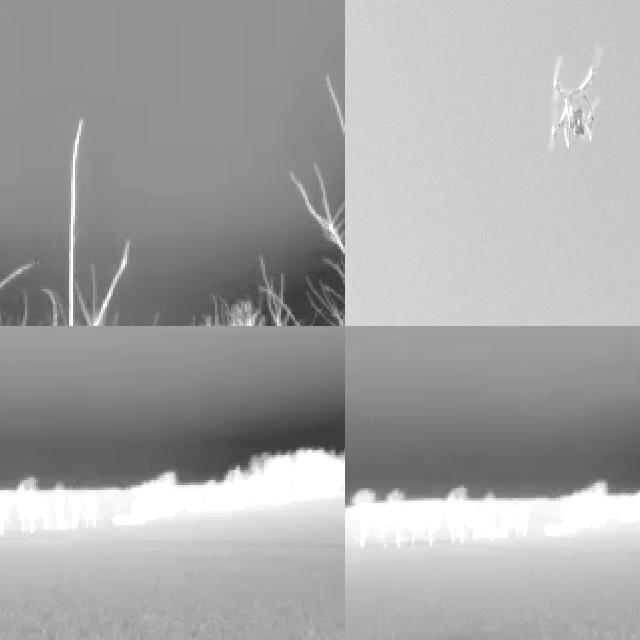drone: (543, 46, 603, 158)
